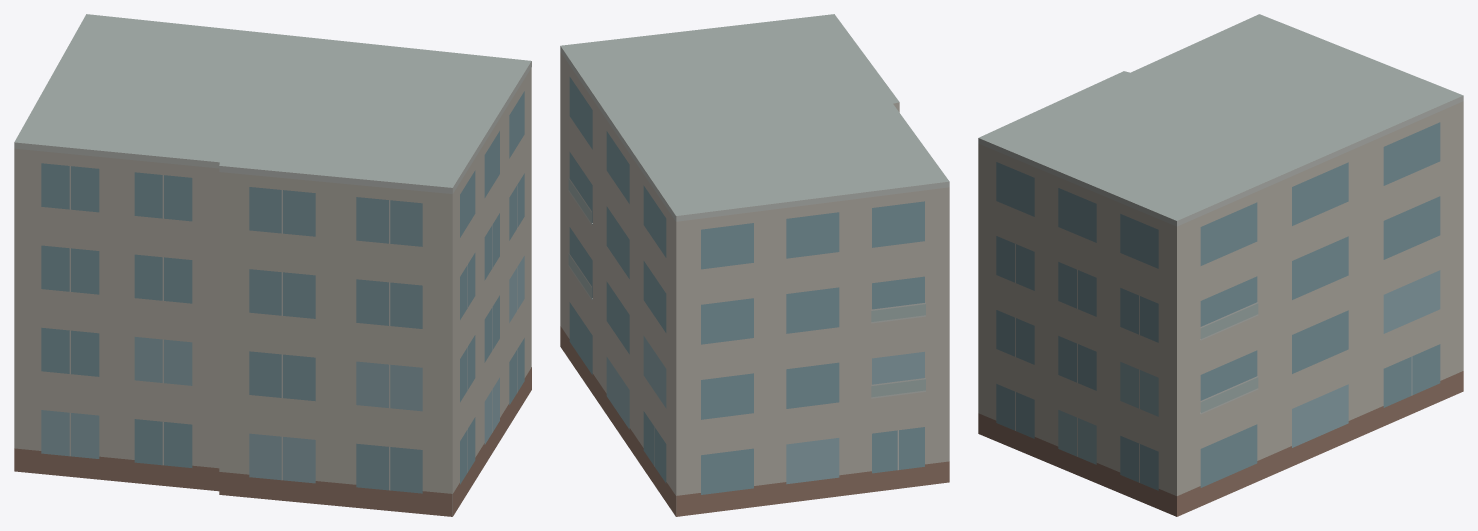
Rendered from survey-upis-32746563.glb.
The picture shows the model from 3 angles, left to right: view 1: azimuth 30°, elevation 25°; view 2: azimuth 150°, elevation 25°; view 3: azimuth 270°, elevation 25°; orthographic projection. The views are drawn at different scales.
Visible parts, largest first — view 1: survey-upis-32746563.tmp; view 2: survey-upis-32746563.tmp; view 3: survey-upis-32746563.tmp.
Boxes of the visible parts, <box> form: survey-upis-32746563.tmp: <box>14,14,531,516</box>; survey-upis-32746563.tmp: <box>560,14,949,516</box>; survey-upis-32746563.tmp: <box>978,14,1463,516</box>.
Bounding box in the file's own units: 19.36 × 12.9 × 19.18.
